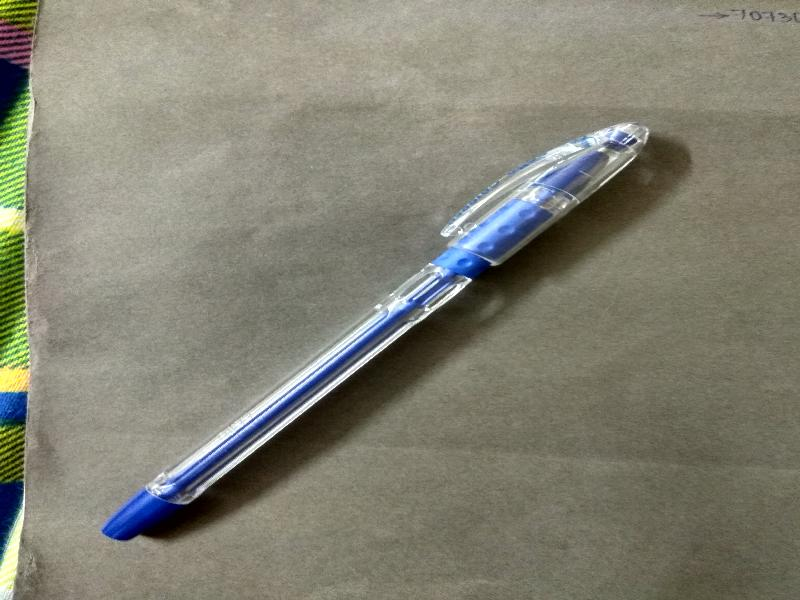pen: (99, 112, 663, 546)
